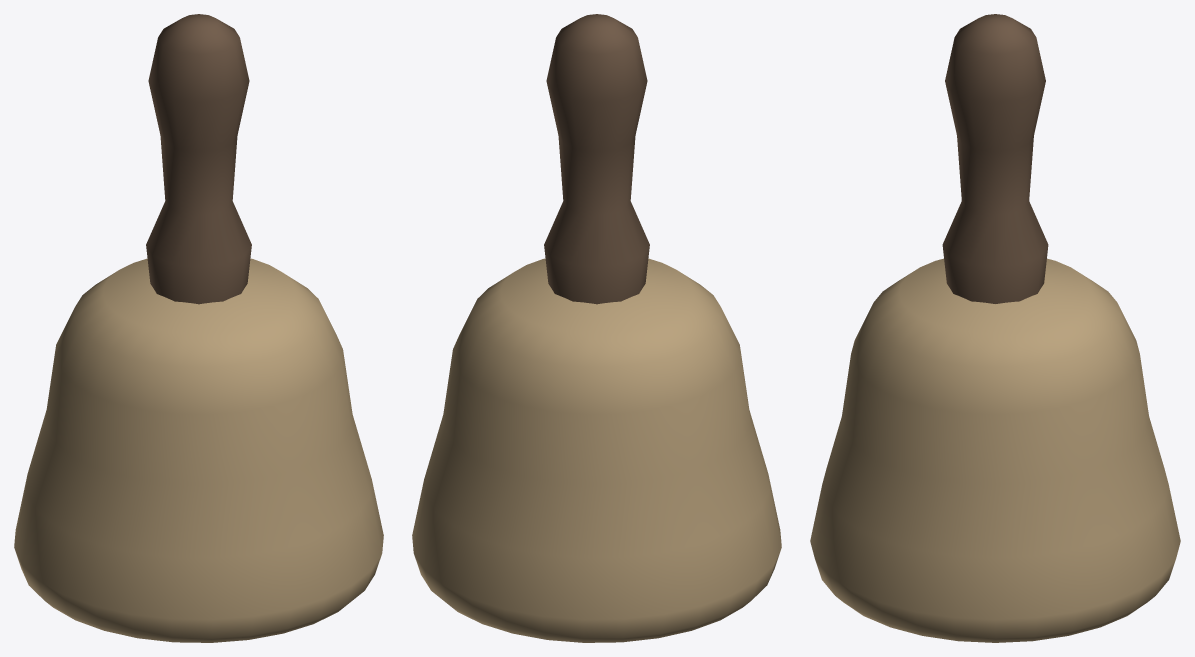
File: bell_small.glb
3 views of the same model, side by side, from view 1: azimuth 30°, elevation 25°; view 2: azimuth 150°, elevation 25°; view 3: azimuth 270°, elevation 25° (orthographic).
Visible parts, largest first — view 1: bell_small; view 2: bell_small; view 3: bell_small.
Part boxes in pixels (box(x1,y1,x2,y2)): bell_small: box(14, 14, 383, 642); bell_small: box(412, 14, 781, 642); bell_small: box(810, 14, 1180, 642).
Size of the model in its own units: 0.154 by 0.253 by 0.154.
